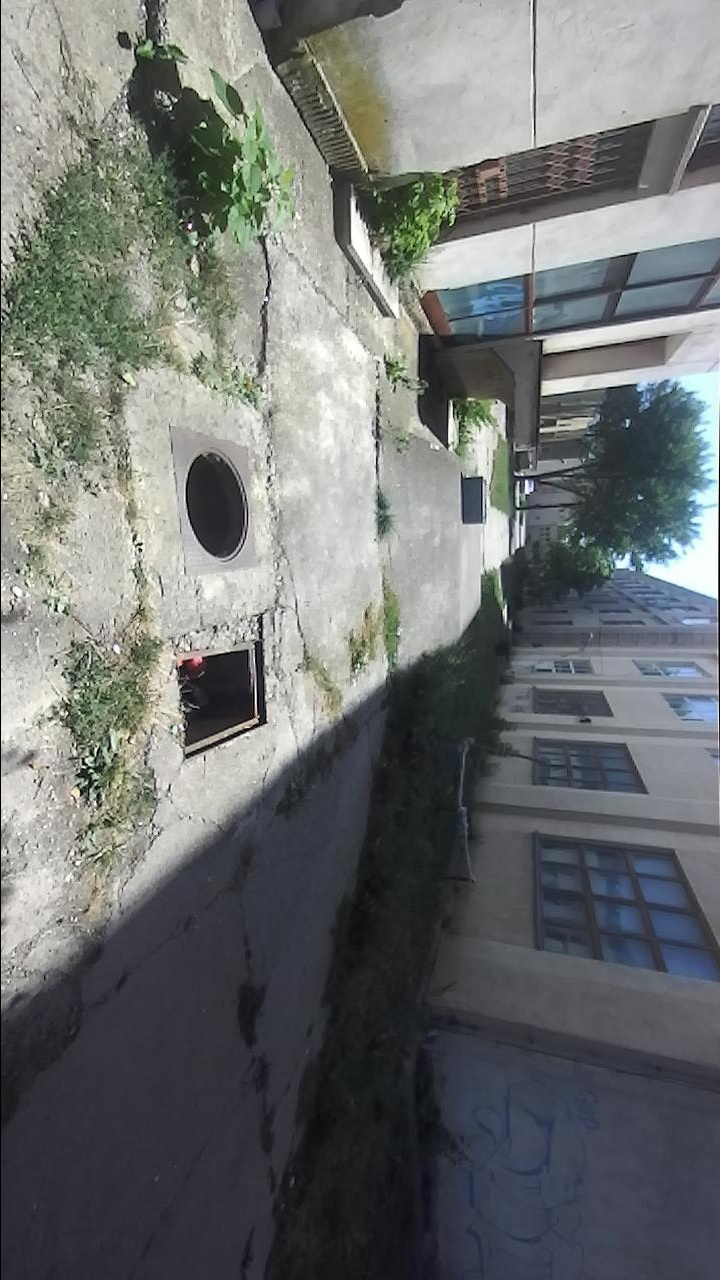drain: (167, 634, 270, 770), (183, 443, 251, 573)
